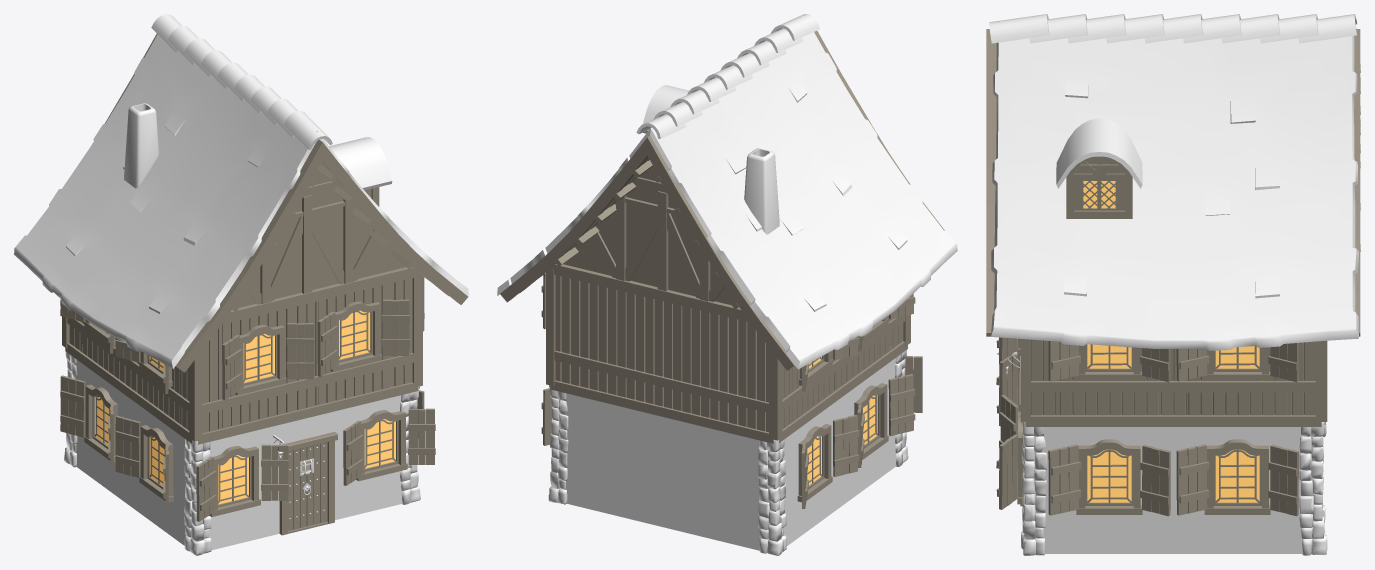
Rendered from gibbetmere_forest_inn.glb.
3 views of the same model, side by side, from view 1: azimuth 30°, elevation 25°; view 2: azimuth 150°, elevation 25°; view 3: azimuth 270°, elevation 25° (orthographic). The views are drawn at different scales.
Parts seen in each view (by area): view 1: village/MI_FlatTiles, village/MI_WoodTrim_Wear, village/MI_WoodTrim, village/MI_UnevenBrick, village/MI_WindowGlass, village/MI_RoundTiles, village/MI_RockTrim; view 2: village/MI_FlatTiles, village/MI_WoodTrim_Wear, village/MI_UnevenBrick, village/MI_WoodTrim, village/MI_RockTrim, village/MI_RoundTiles, village/MI_WindowGlass; view 3: village/MI_FlatTiles, village/MI_WoodTrim_Wear, village/MI_WoodTrim, village/MI_UnevenBrick, village/MI_RoundTiles, village/MI_RockTrim, village/MI_WindowGlass.
Boxes of the visible parts, <box> form: village/MI_FlatTiles: <box>14,34,468,368</box>; village/MI_WoodTrim_Wear: <box>60,189,435,530</box>; village/MI_WoodTrim: <box>62,33,467,535</box>; village/MI_UnevenBrick: <box>72,103,401,549</box>; village/MI_WindowGlass: <box>95,310,395,504</box>; village/MI_RoundTiles: <box>151,14,332,149</box>; village/MI_RockTrim: <box>64,352,420,555</box>; village/MI_FlatTiles: <box>497,15,957,369</box>; village/MI_WoodTrim_Wear: <box>541,272,922,508</box>; village/MI_UnevenBrick: <box>557,148,895,550</box>; village/MI_WoodTrim: <box>500,31,944,443</box>; village/MI_RockTrim: <box>548,350,908,555</box>; village/MI_RoundTiles: <box>636,14,819,138</box>; village/MI_WindowGlass: <box>807,356,877,485</box>; village/MI_FlatTiles: <box>991,21,1358,350</box>; village/MI_WoodTrim_Wear: <box>996,179,1315,516</box>; village/MI_WoodTrim: <box>986,29,1360,506</box>; village/MI_UnevenBrick: <box>1026,427,1321,553</box>; village/MI_RoundTiles: <box>989,14,1357,43</box>; village/MI_RockTrim: <box>1021,422,1327,555</box>; village/MI_WindowGlass: <box>1083,181,1259,502</box>.
Size of the model in its own units: 8.61 by 10.66 by 7.59.
